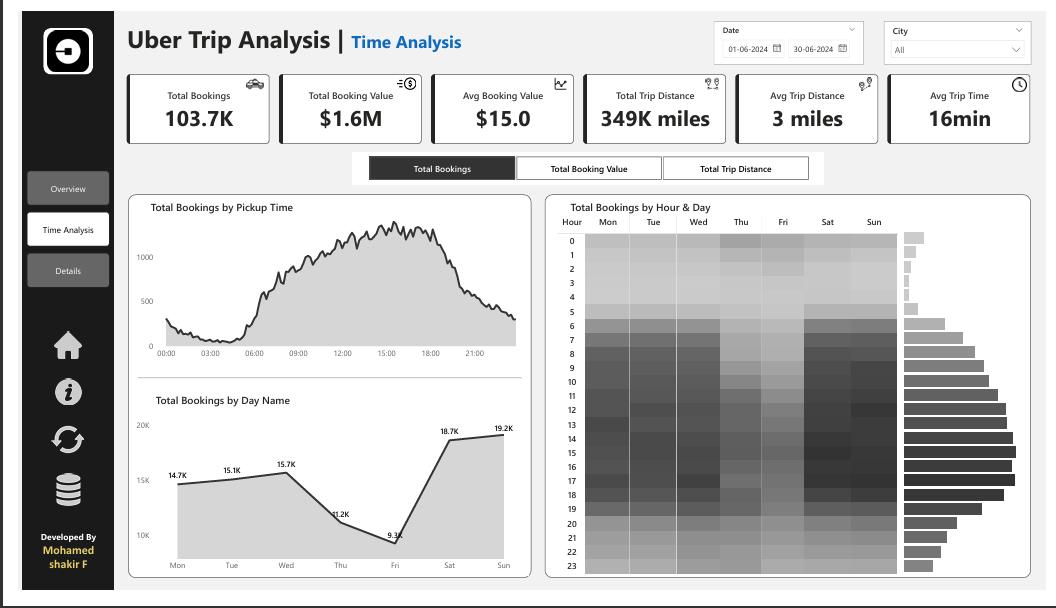

The page's visual inventory and layout, read from the dashboard file:
{"tool":"powerbi","page":{"name":"Time Analysis","canvas":[1600,900],"ordinal":1},"visuals":[{"type":"shape","box":[171.1,284.6,628.3,597.2],"z":0},{"type":"shape","box":[6.5,0,142.3,900.3],"z":1000},{"type":"shape","box":[38.8,25.5,76.6,72.5],"z":1000,"group":"g1"},{"type":"textbox","box":[164.2,11.6,593,62.5],"z":2000},{"type":"image","box":[40.1,21.6,74.8,80.4],"z":2000,"group":"g1"},{"type":"cardVisual","fields":{"Data":["Trip Details.Total Bookings","Trip Details.Total Booking Value","Trip Details.Avg Booking Value","Trip Details.Total Trip Distance","Trip Details.Avg Trip Distance","Trip Details.Average Trip Time (Minutes)"]},"box":[164.5,93.2,1418,117.3],"z":3000},{"type":"group","id":"g1","title":"Group 1","box":[38.8,21.6,76.5,80.9],"z":4000},{"type":"areaChart","title":"Total Bookings by Pickup Time (10 min Interval)","fields":{"Y":["Trip Details.Total Trip Distance Meaure"],"Category":["Trip Details.Pickup Time (HH:MM:SS) (bins)"]},"box":[178.8,312.6,615.9,237.9],"z":5000},{"type":"areaChart","title":"Total Bookings by Day","fields":{"Y":["Trip Details.Total Trip Distance Meaure"],"Category":["Calendar Table.Day"]},"box":[179.4,631.3,615.4,248.5],"z":6000},{"type":"slicer","fields":{"Values":["Dynamic Measure.Dynamic Measure"]},"box":[521,219.3,734.1,49.8],"z":7000},{"type":"shape","box":[819.6,284.6,757.4,597.2],"z":8000},{"type":"pivotTable","title":"jgcvjv","fields":{"Values":["Trip Details.Total Trip Distance Meaure"],"Rows":["Trip Details.Pickup Hour"],"Columns":["Calendar Table.Day"]},"box":[836.7,312.6,542.8,567.7],"z":9000},{"type":"barChart","fields":{"Y":["Trip Details.Total Trip Distance Meaure"],"Category":["Trip Details.Pickup Hour"]},"box":[1374.8,330.8,186.6,569.2],"z":10000},{"type":"card","fields":{"Values":["Trip Details.Pickup Time Title"]},"box":[177.3,287.7,279.9,37.3],"z":11000},{"type":"card","fields":{"Values":["Trip Details.Matrix Chart Title"]},"box":[828.9,287.7,279.9,37.3],"z":12000},{"type":"card","fields":{"Values":["Trip Details.Day Analysis Title"]},"box":[179.1,588.7,279.2,36.9],"z":13000},{"type":"shape","box":[185.6,555.4,598.8,29.9],"z":14000},{"type":"slicer","fields":{"Values":["Location Table.City"]},"box":[1347.7,15.1,229.9,68.1],"z":15000},{"type":"slicer","fields":{"Values":["Calendar Table.Date"]},"box":[1083,15.1,234.4,68.1],"z":16000},{"type":"image","box":[349.6,93,38.5,38.5],"z":17000},{"type":"image","box":[586.1,91.7,38.5,41.2],"z":18000},{"type":"image","box":[829.4,95.7,30.6,33.2],"z":19000},{"type":"image","box":[1066,97,30.6,30.6],"z":20000},{"type":"image","box":[1305.2,98.4,30.6,30.6],"z":21000},{"type":"image","box":[1543.1,95.7,33.2,37.2],"z":22000},{"type":"pageNavigator","box":[13.1,247.7,128.4,182.1],"z":23000},{"type":"image","box":[46.7,631.1,61.6,69.5],"z":24000},{"type":"image","box":[45.4,715,64.2,60.3],"z":25000},{"type":"image","box":[50.6,489.6,53.7,60.3],"z":26000},{"type":"image","box":[47.7,566.9,59,52.4],"z":27000},{"type":"textbox","box":[13.7,804.2,128.7,95.8],"z":28000}]}

Visuals, with their boxes on the page's 1600x900 design canvas (x1, y1, x2, y2). These are canvas units, not pixel positions in the 1056x608 screenshot, which may show the page scaled, cropped or inside an application window:
shape: 171,285,799,882
shape: 6,0,149,900
shape: 39,26,115,98
textbox: 164,12,757,74
image: 40,22,115,102
cardVisual - Trip Details.Total Bookings x Trip Details.Total Booking Value: 164,93,1582,210
"Group 1" group: 39,22,115,102
"Total Bookings by Pickup Time (10 min Interval)" areaChart: 179,313,795,550
"Total Bookings by Day" areaChart: 179,631,795,880
slicer - Dynamic Measure.Dynamic Measure: 521,219,1255,269
shape: 820,285,1577,882
"jgcvjv" pivotTable: 837,313,1380,880
barChart - Trip Details.Total Trip Distance Meaure x Trip Details.Pickup Hour: 1375,331,1561,900
card - Trip Details.Pickup Time Title: 177,288,457,325
card - Trip Details.Matrix Chart Title: 829,288,1109,325
card - Trip Details.Day Analysis Title: 179,589,458,626
shape: 186,555,784,585
slicer - Location Table.City: 1348,15,1578,83
slicer - Calendar Table.Date: 1083,15,1317,83
image: 350,93,388,132
image: 586,92,625,133
image: 829,96,860,129
image: 1066,97,1097,128
image: 1305,98,1336,129
image: 1543,96,1576,133
pageNavigator: 13,248,142,430
image: 47,631,108,701
image: 45,715,110,775
image: 51,490,104,550
image: 48,567,107,619
textbox: 14,804,142,900
